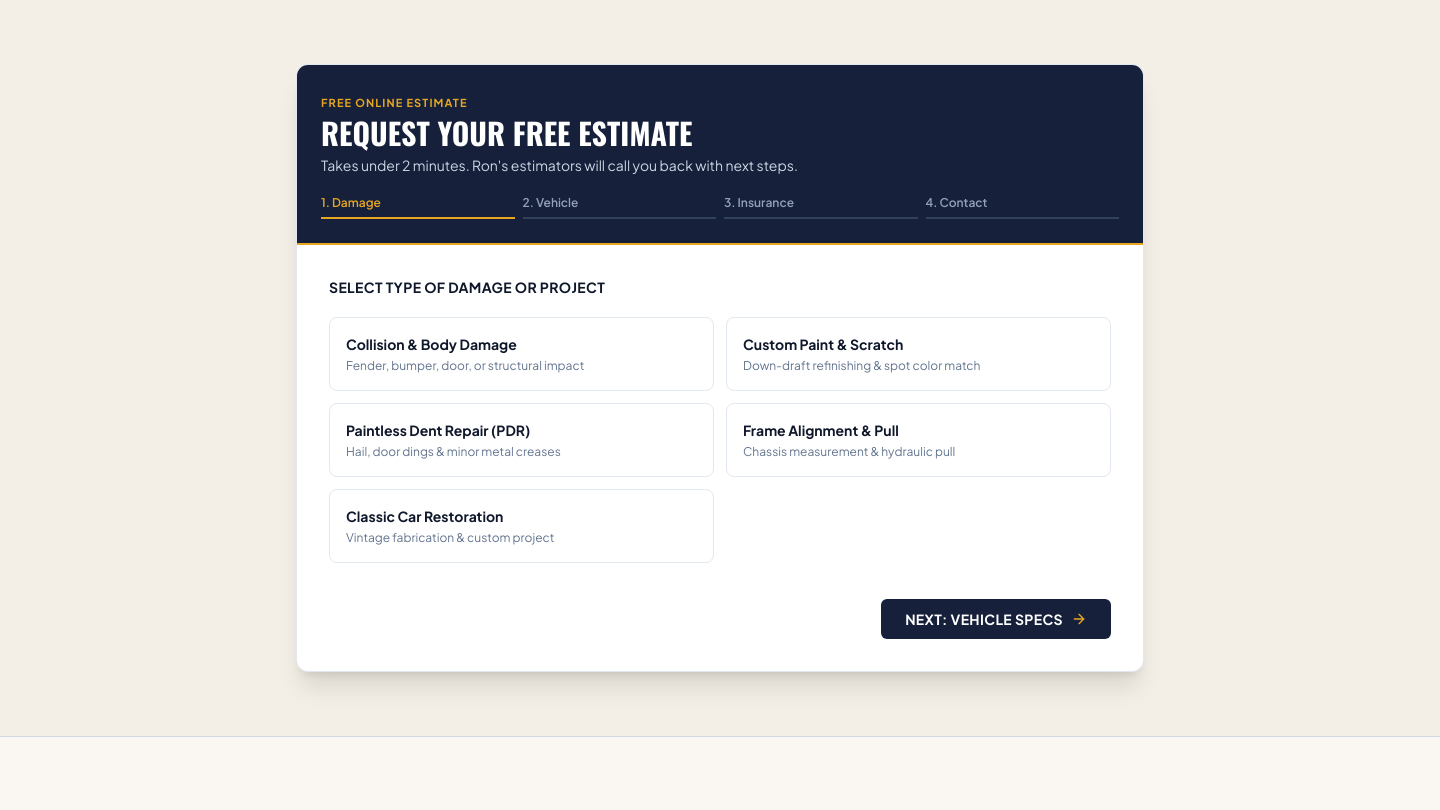
Test: EstimateCalculator › blocks advancing with missing required fields and shows errors
Click the button "Next: Vehicle Specs".
click(996, 619)  # box [881, 599, 1111, 639]
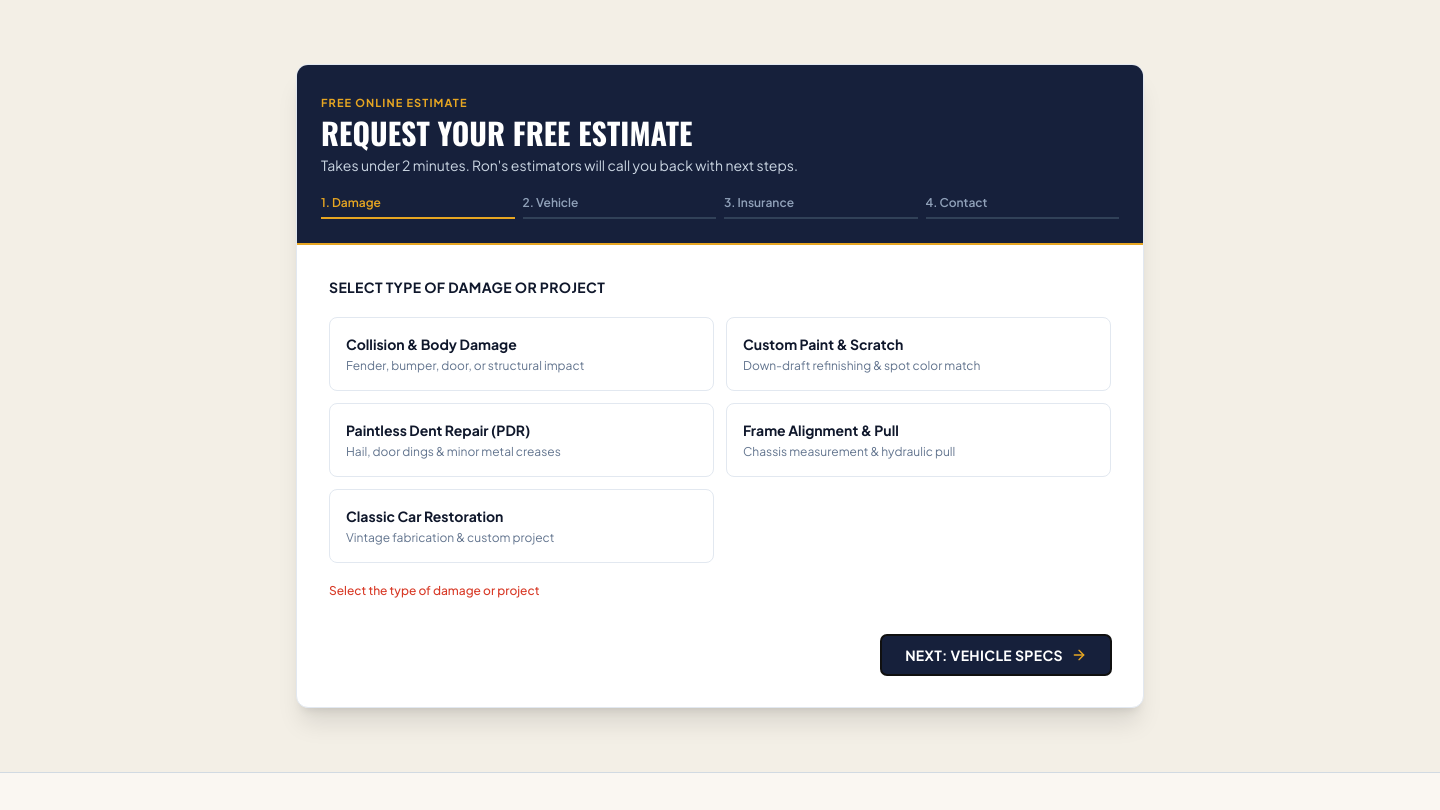
expect the text "Select the type of damage or project" is shown: met, box [329, 583, 539, 598]
Click the radio button labelled "Paintless Dent".
click(522, 440)  # box [329, 403, 714, 477]
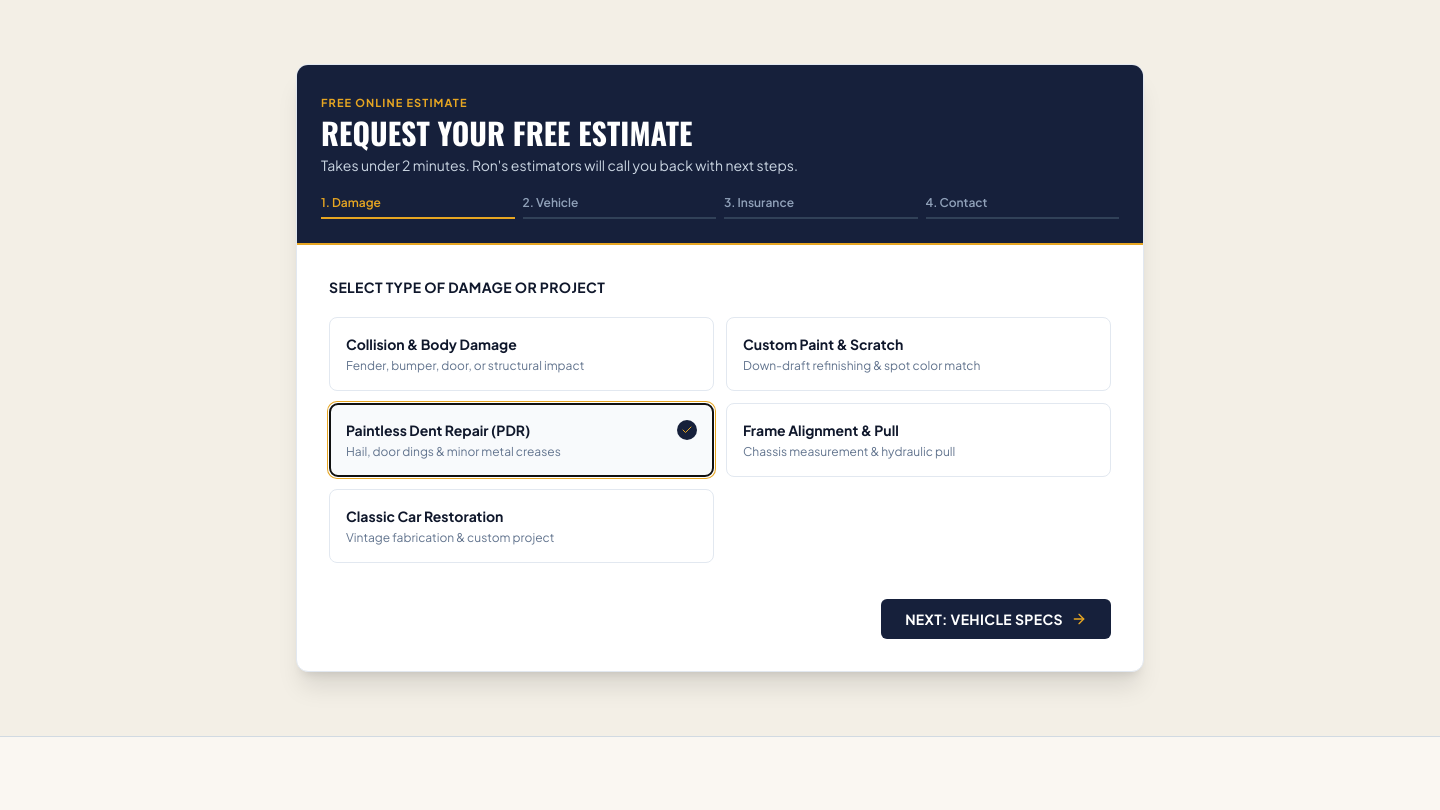
Click the button "Next: Vehicle Specs".
click(996, 619)  # box [881, 599, 1111, 639]
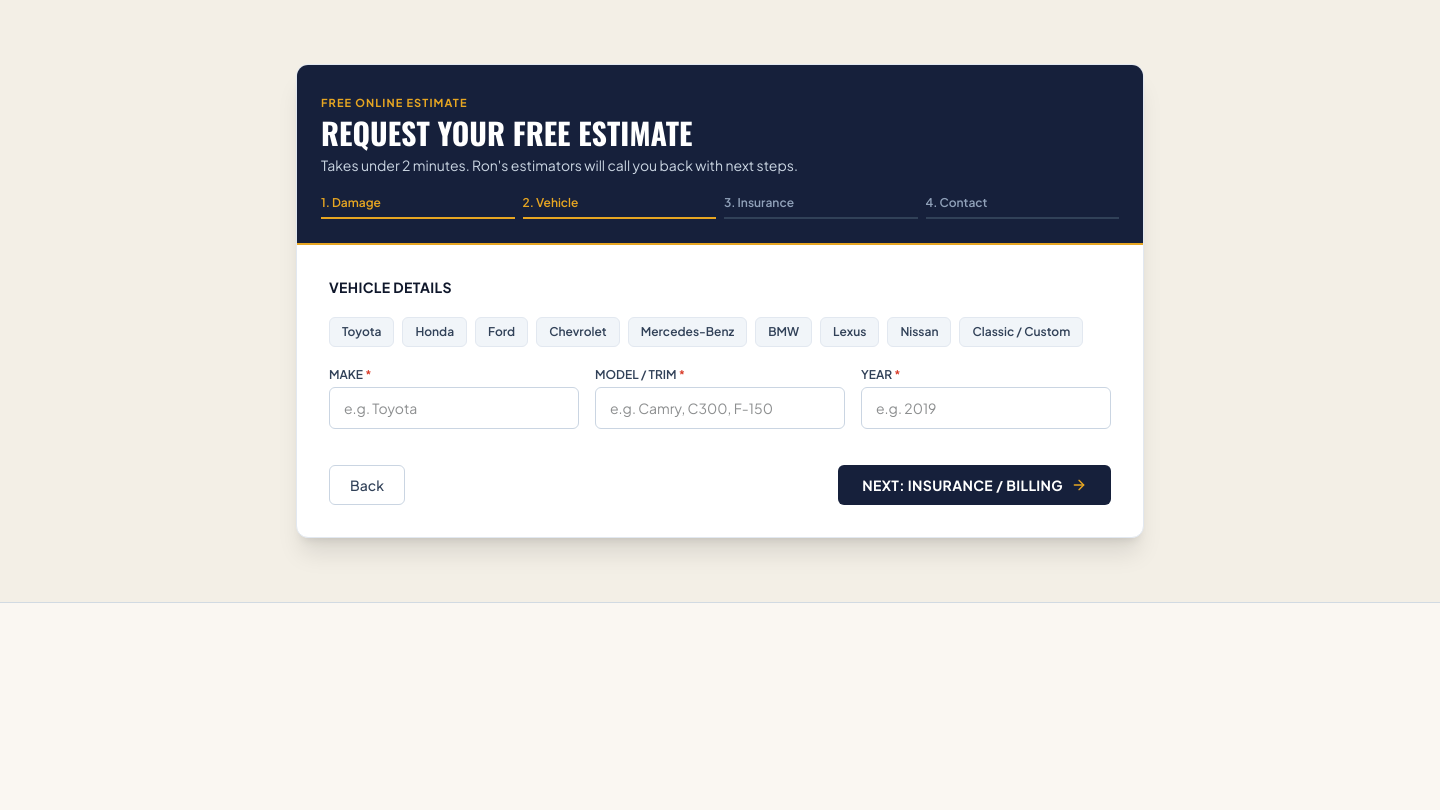
Click the button "Next: Insurance / Billing".
click(975, 485)  # box [838, 465, 1111, 505]
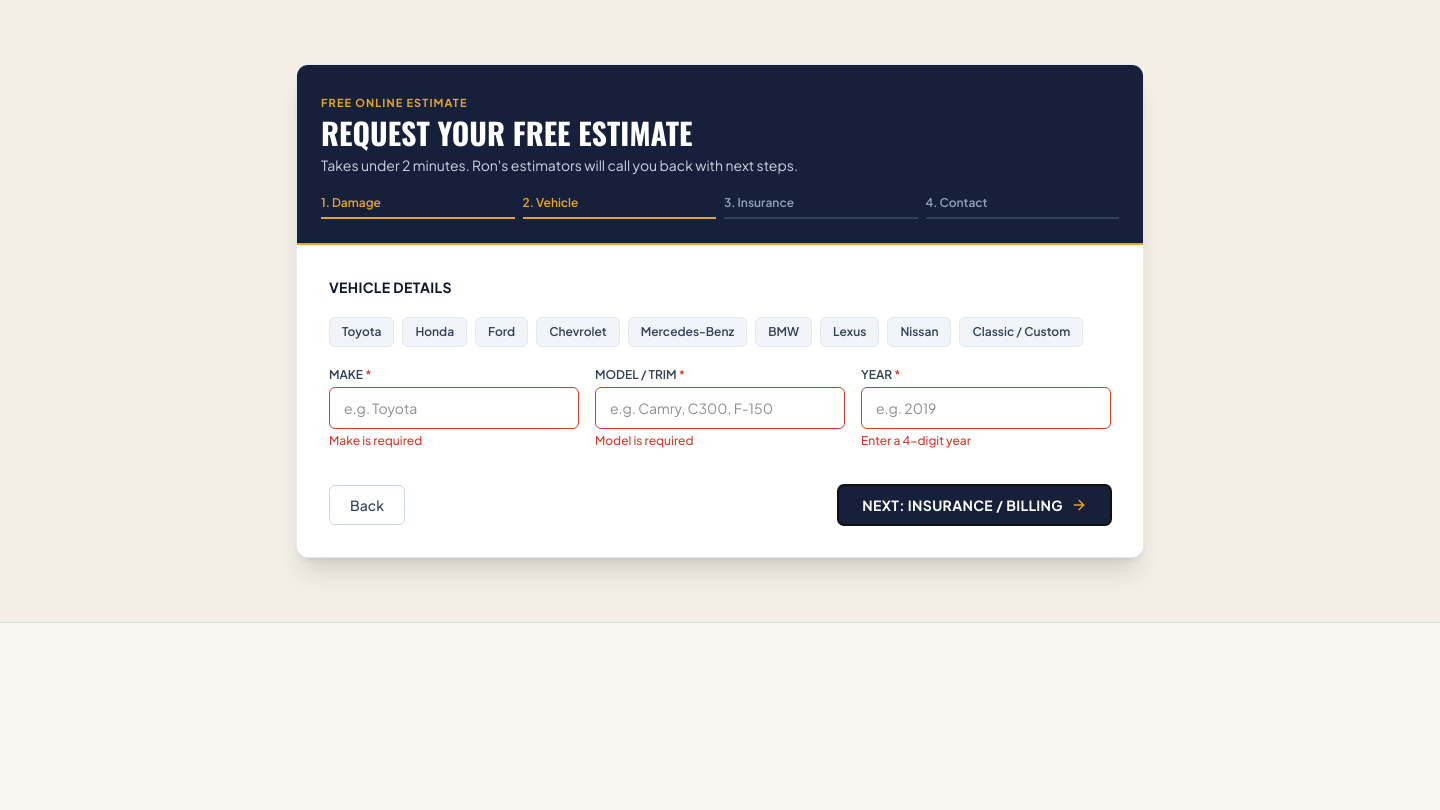
expect the text "Model is required" is shown: met, box [595, 433, 694, 448]
